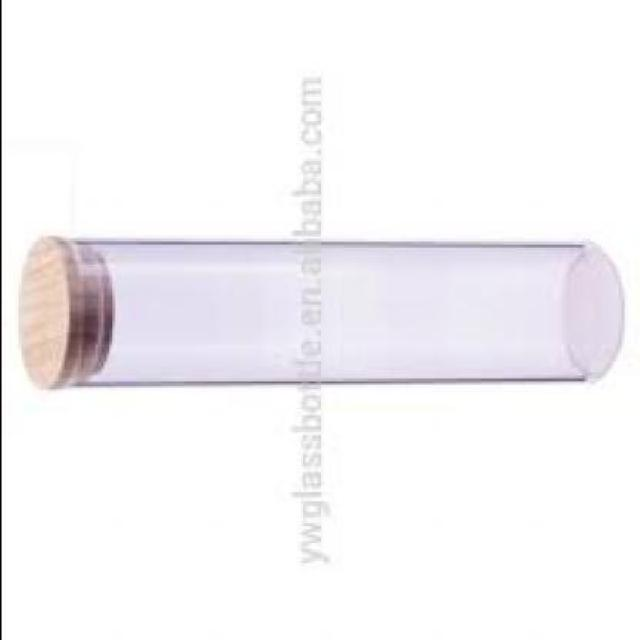GLASS: (60, 245, 617, 389)
